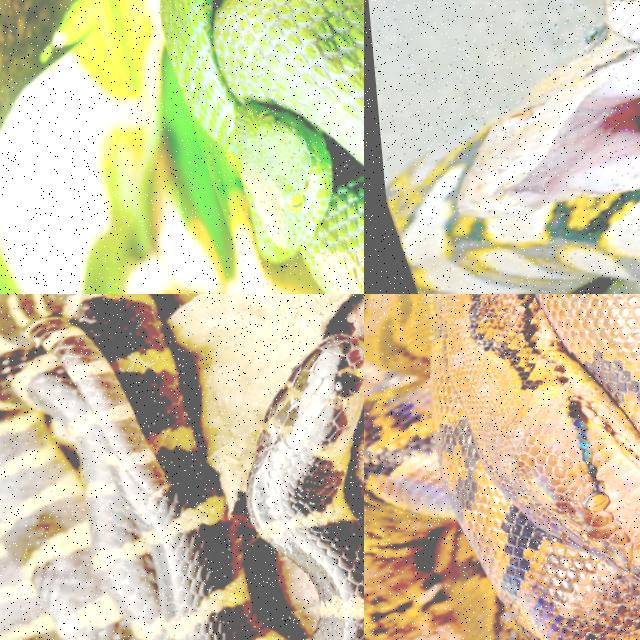Bungarus fasciatus: (0, 294, 286, 639)
Malayopython reticulatus: (364, 294, 639, 639), (388, 144, 639, 293)
Trimeresurus macrops: (160, 0, 363, 293)
snake: (0, 294, 286, 639), (364, 294, 639, 639), (160, 0, 363, 293), (388, 144, 639, 293)
